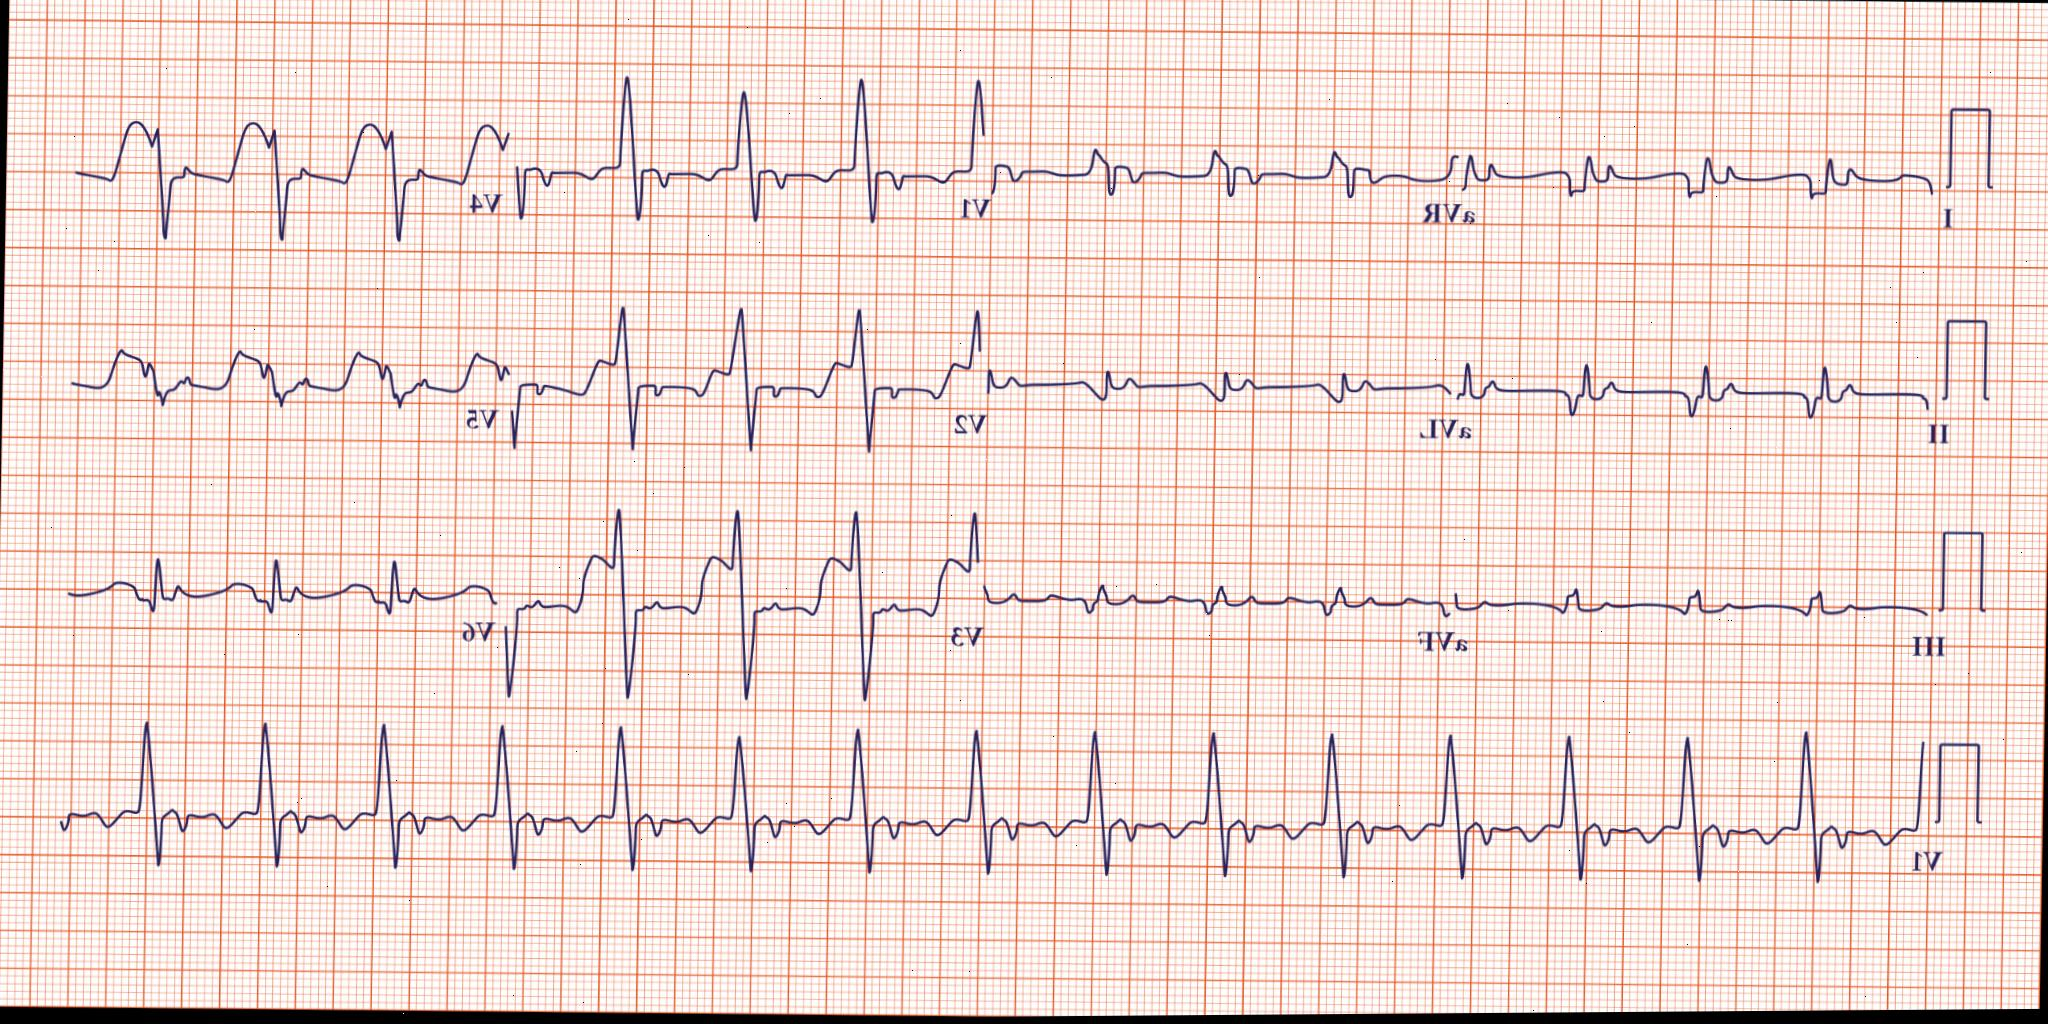Lead_I: (1496, 112, 1963, 261)
Lead_II: (1489, 330, 1954, 474)
Lead_III: (1480, 538, 1957, 700)
Lead_V1: (508, 52, 999, 272)
Lead_V2: (504, 287, 990, 499)
Lead_V3: (491, 481, 991, 739)
Lead_V4: (64, 64, 508, 256)
Lead_V5: (54, 298, 511, 477)
Lead_V6: (47, 520, 499, 661)
Lead_aVF: (981, 515, 1489, 696)
Lead_aVL: (981, 316, 1489, 477)
Lead_aVR: (990, 99, 1496, 255)
